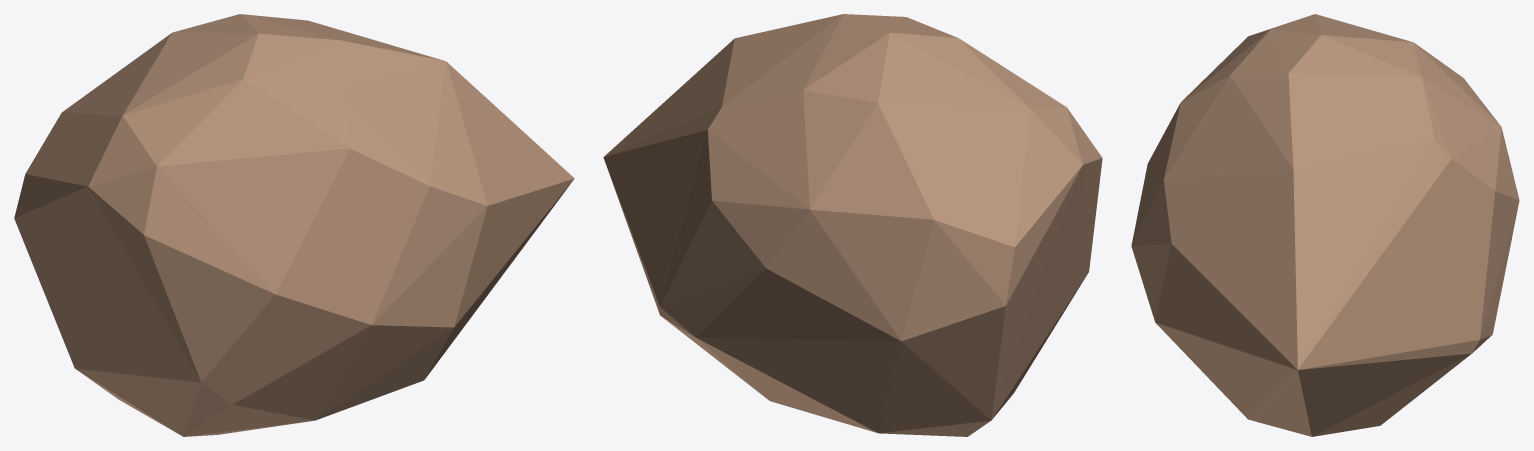
Rendered from food_produce_lemon_a00.glb.
3 renders of one model, left to right at view 1: azimuth 30°, elevation 25°; view 2: azimuth 150°, elevation 25°; view 3: azimuth 270°, elevation 25°, orthographic. The views are drawn at different scales.
Parts seen in each view (by area): view 1: geometry_0; view 2: geometry_0; view 3: geometry_0.
Part boxes in pixels (x1,y1,x2,y2): geometry_0: (14, 14, 574, 436); geometry_0: (603, 14, 1102, 436); geometry_0: (1131, 14, 1519, 436).
Size of the model in its own units: 0.4239 by 0.3244 by 0.3126.
